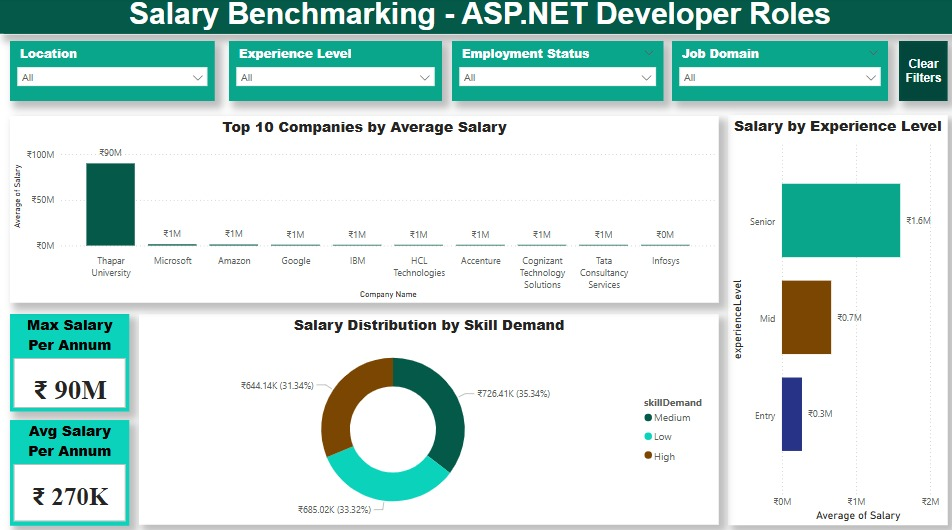

The dashboard page shown, as its layout file describes it:
{"tool":"powerbi","page":{"name":"Salary Benchmarking","canvas":[1280,720],"ordinal":3},"visuals":[{"type":"textbox","title":"Salary Benchmarking - ASP.NET Developer Roles ","box":[0,0,1280,49.9],"z":0},{"type":"cardVisual","title":"Max Salary Per Annum","fields":{"Data":["Max(ASP NET.Salary)"]},"box":[14,423.3,159.3,130.2],"z":1000},{"type":"slicer","fields":{"Values":["ASP NET.Location"]},"box":[13.6,59.1,273,80.4],"z":5000},{"type":"slicer","fields":{"Values":["ASP NET.experienceLevel"]},"box":[304.8,59.1,283.6,80.4],"z":6000},{"type":"slicer","fields":{"Values":["ASP NET.employmentStatus"]},"box":[602.1,59.1,282.1,80.4],"z":7000},{"type":"cardVisual","title":"Avg Salary Per Annum","fields":{"Data":["Avg(ASP NET.Salary)"]},"box":[14,564,159.3,140.7],"z":8000},{"type":"clusteredBarChart","title":"Salary by Experience Level","fields":{"Category":["ASP NET.experienceLevel"],"Y":["Avg(ASP NET.Salary)"]},"box":[970.6,157.7,292.7,547.5],"z":9000},{"type":"slicer","fields":{"Values":["ASP NET.Job Roles"]},"box":[896.3,59.1,288.2,80.4],"z":10000},{"type":"donutChart","title":"Salary Distribution by Skill Demand","fields":{"Category":["ASP NET.skillDemand"],"Y":["Avg(ASP NET.Salary)"]},"box":[184.9,423.3,773.3,281.4],"z":11000},{"type":"columnChart","title":"Top 10 Companies by Average Salary","fields":{"Category":["ASP NET.Company Name"],"Y":["Avg(ASP NET.Salary)"]},"box":[14,158.1,945.4,248.8],"z":12000},{"type":"actionButton","box":[1198.1,59.1,65.2,80.4],"z":14000}]}

Visuals, with their boxes in screenshot pixels (x1, y1, x2, y2), scaled from the page's 1280x720 canvas onto the 952x530 screenshot:
"Salary Benchmarking - ASP.NET Developer Roles " textbox: rect(0, 0, 951, 37)
"Max Salary Per Annum" cardVisual: rect(10, 312, 129, 407)
slicer - ASP NET.Location: rect(10, 44, 213, 103)
slicer - ASP NET.experienceLevel: rect(227, 44, 438, 103)
slicer - ASP NET.employmentStatus: rect(448, 44, 658, 103)
"Avg Salary Per Annum" cardVisual: rect(10, 415, 129, 519)
"Salary by Experience Level" clusteredBarChart: rect(722, 116, 940, 519)
slicer - ASP NET.Job Roles: rect(667, 44, 881, 103)
"Salary Distribution by Skill Demand" donutChart: rect(138, 312, 713, 519)
"Top 10 Companies by Average Salary" columnChart: rect(10, 116, 714, 300)
actionButton: rect(891, 44, 940, 103)
